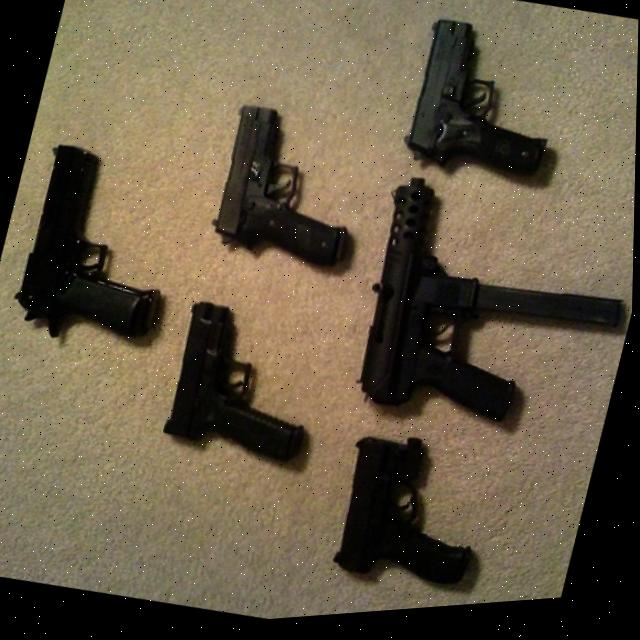pistol: (337, 164, 636, 461), (6, 133, 194, 364), (397, 15, 578, 201), (325, 425, 503, 608), (159, 294, 332, 478), (202, 97, 374, 282)
